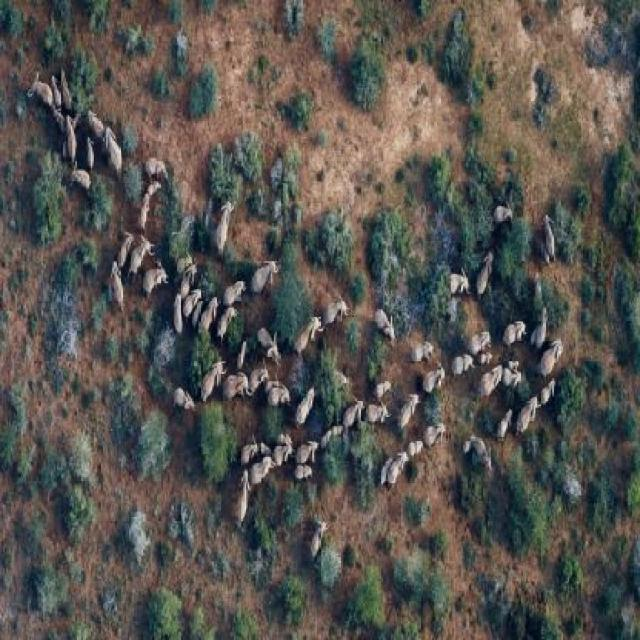elephant: (20, 58, 52, 119), (314, 288, 352, 334), (209, 178, 234, 242), (124, 225, 156, 272), (536, 208, 564, 260), (529, 297, 557, 349), (531, 337, 567, 377), (505, 300, 532, 352), (296, 368, 318, 430), (201, 356, 227, 407), (234, 442, 251, 520), (222, 374, 252, 418), (167, 370, 191, 424), (138, 140, 168, 182), (72, 148, 94, 203), (252, 250, 280, 293), (439, 267, 467, 310), (296, 306, 318, 360), (343, 382, 363, 441), (262, 380, 290, 422), (362, 393, 390, 435), (372, 307, 398, 351), (478, 238, 497, 298), (54, 65, 78, 112), (60, 109, 80, 163), (177, 258, 206, 294), (220, 264, 248, 301), (105, 117, 123, 174), (514, 397, 541, 435), (422, 354, 449, 392), (142, 255, 168, 294), (293, 427, 325, 458), (392, 446, 414, 491), (476, 432, 498, 476), (253, 320, 278, 358), (248, 448, 274, 484), (472, 320, 494, 362), (108, 260, 129, 303), (212, 289, 230, 337), (427, 414, 451, 449), (272, 427, 291, 471), (496, 372, 527, 398), (484, 368, 510, 399), (402, 432, 428, 463), (310, 510, 324, 567), (241, 428, 261, 467), (527, 270, 547, 308), (539, 375, 559, 413), (182, 283, 216, 305), (51, 98, 69, 139), (499, 407, 516, 450), (244, 365, 273, 390), (495, 198, 516, 232), (84, 108, 108, 137), (412, 326, 433, 359), (238, 328, 254, 370), (333, 409, 347, 453), (379, 450, 395, 488), (323, 418, 335, 467), (398, 390, 416, 422), (292, 458, 317, 480), (276, 414, 292, 448), (188, 272, 198, 326), (168, 298, 184, 331), (197, 298, 212, 333), (84, 132, 96, 174), (264, 372, 282, 400), (450, 346, 470, 371), (539, 240, 553, 275), (134, 194, 152, 220), (459, 429, 475, 457), (120, 218, 131, 257), (479, 343, 496, 365), (500, 352, 522, 368), (373, 377, 392, 395), (51, 64, 58, 111), (259, 438, 272, 458), (148, 178, 162, 196), (179, 246, 193, 263)
